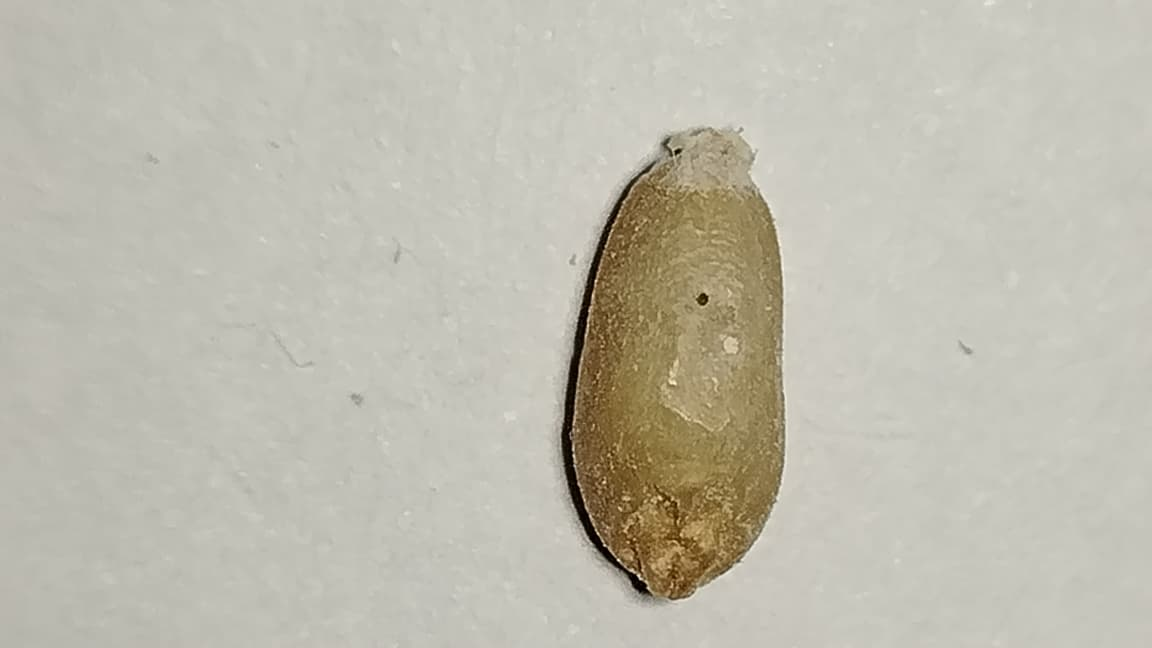damage: (573, 157, 783, 598)
insectdamage: (609, 260, 762, 431)
